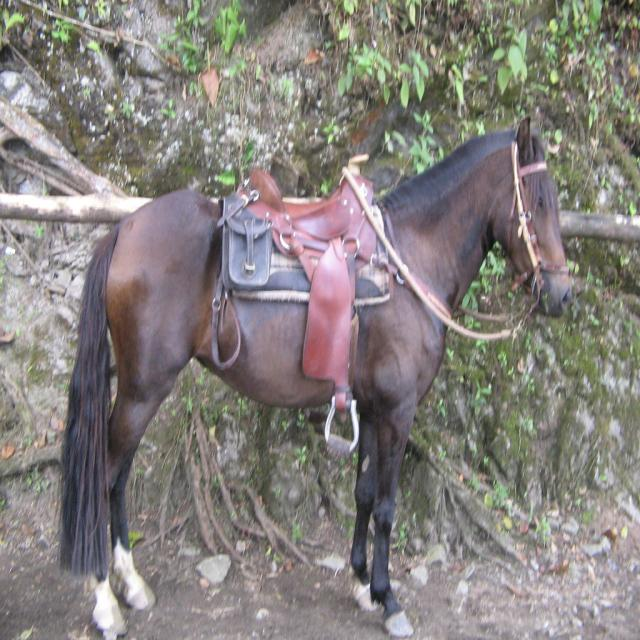Horse: (58, 117, 572, 638)
